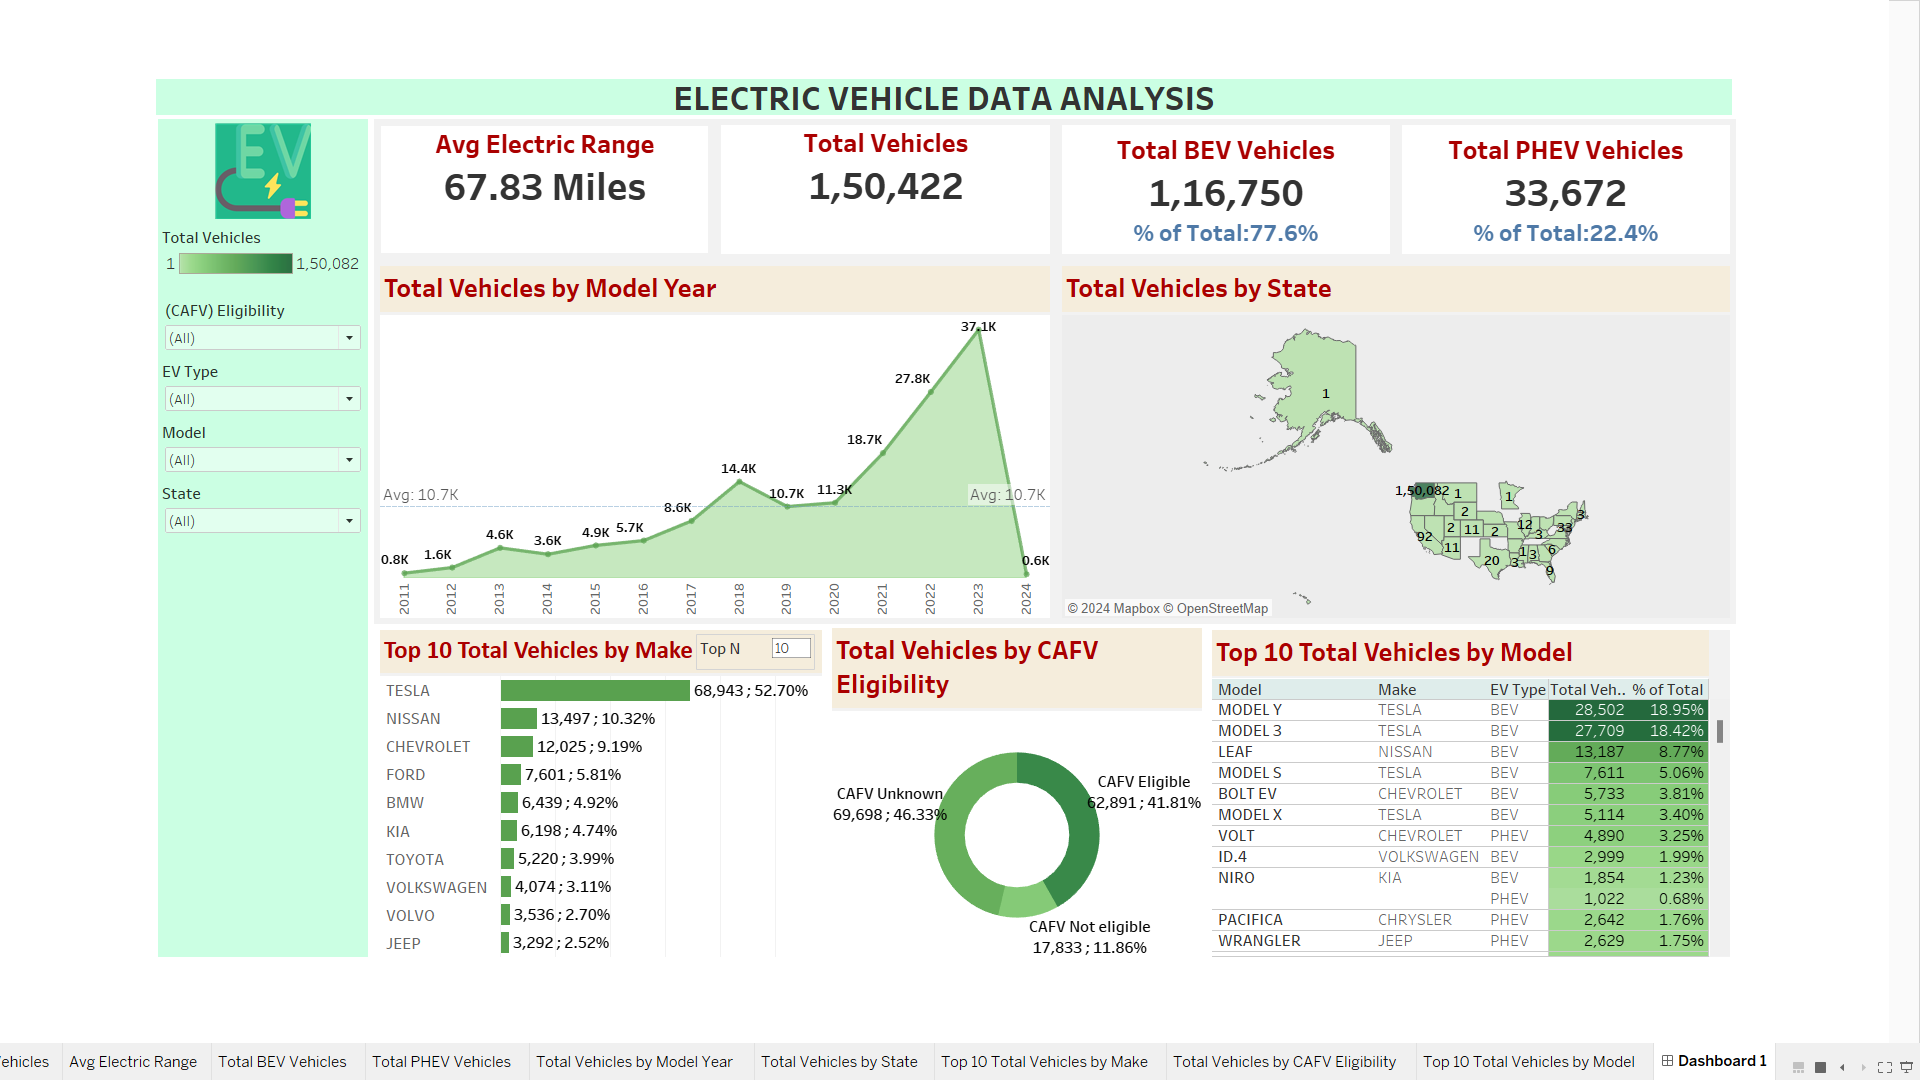

The page's visual inventory and layout, read from the dashboard file:
{"tool":"tableau","page":{"name":"Dashboard 1","canvas":[1600,900],"ordinal":0},"visuals":[{"type":"title","box":[8,8,1584,40]},{"type":"image","param":"C:/Users/91825/Downloads/WhatsApp Image 2024-08-14 at 4.53.52 PM.jpeg","box":[14,48,210,104]},{"type":"worksheet","title":"Avg Electric Range","mark":"Automatic","box":[230,48,341,141]},{"type":"worksheet","title":"Total Vehicles","mark":"Automatic","box":[571,48,341,141]},{"type":"worksheet","title":"Total BEV Vehicles ","mark":"Automatic","box":[912,48,340,141]},{"type":"worksheet","title":"Total PHEV Vehicles ","mark":"Automatic","box":[1252,48,340,141]},{"type":"legend","title":"Total Vehicles by State","param":"[federated.1t55tqe1hbohhf17nwofz0klcm70].[usr:Calculation_922393549253562368:qk]","box":[14,152,210,73]},{"type":"worksheet","title":"Total Vehicles by Model Year ","mark":"Area","rows":["Calculation_922393549253562368","Calculation_922393549253562368"],"cols":["Model Year"],"box":[230,189,682,364]},{"type":"worksheet","title":"Total Vehicles by State","mark":"Multipolygon","box":[912,189,680,364]},{"type":"filter","title":"Total Vehicles by State","param":"[federated.1t55tqe1hbohhf17nwofz0klcm70].[none:Clean Alternative Fuel Vehicle (C","box":[14,225,210,61]},{"type":"filter","title":"Total Vehicles by State","param":"[federated.1t55tqe1hbohhf17nwofz0klcm70].[none:Electric Vehicle Type:nk]","box":[14,286,210,61]},{"type":"filter","title":"Total Vehicles by Model Year ","param":"[federated.1t55tqe1hbohhf17nwofz0klcm70].[none:Model:nk]","box":[14,347,210,61]},{"type":"filter","title":"Total Vehicles by Model Year ","param":"[federated.1t55tqe1hbohhf17nwofz0klcm70].[none:State:nk]","box":[14,408,210,61]},{"type":"worksheet","title":"Top 10 Total Vehicles by Make","mark":"Automatic","rows":["Make"],"cols":["Calculation_922393549253562368"],"box":[230,553,454,339]},{"type":"worksheet","title":"Total Vehicles by CAFV Eligibility","mark":"Pie","rows":["Calculation_922393549271924746","Calculation_922393549271924746"],"box":[684,553,378,339]},{"type":"worksheet","title":"Top 10 Total Vehicles by Model","mark":"Square","rows":["Model","Make","Electric Vehicle Type"],"box":[1062,553,530,339]},{"type":"parameter","param":"[Parameters].[Parameter 1]","box":[552,563,119,36]}]}

Visuals, with their boxes on the page's 1600x900 design canvas (x1, y1, x2, y2). These are canvas units, not pixel positions in the 1920x1080 screenshot, which may show the page scaled, cropped or inside an application window:
title: BBox(8, 8, 1592, 48)
image: BBox(14, 48, 224, 152)
"Avg Electric Range" worksheet: BBox(230, 48, 571, 189)
"Total Vehicles" worksheet: BBox(571, 48, 912, 189)
"Total BEV Vehicles " worksheet: BBox(912, 48, 1252, 189)
"Total PHEV Vehicles " worksheet: BBox(1252, 48, 1592, 189)
"Total Vehicles by State" legend: BBox(14, 152, 224, 225)
"Total Vehicles by Model Year " worksheet (Area marks): BBox(230, 189, 912, 553)
"Total Vehicles by State" worksheet (Multipolygon marks): BBox(912, 189, 1592, 553)
"Total Vehicles by State" filter: BBox(14, 225, 224, 286)
"Total Vehicles by State" filter: BBox(14, 286, 224, 347)
"Total Vehicles by Model Year " filter: BBox(14, 347, 224, 408)
"Total Vehicles by Model Year " filter: BBox(14, 408, 224, 469)
"Top 10 Total Vehicles by Make" worksheet: BBox(230, 553, 684, 892)
"Total Vehicles by CAFV Eligibility" worksheet (Pie marks): BBox(684, 553, 1062, 892)
"Top 10 Total Vehicles by Model" worksheet (Square marks): BBox(1062, 553, 1592, 892)
parameter: BBox(552, 563, 671, 599)
